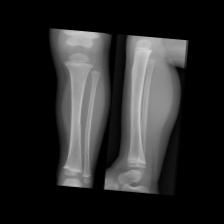impacted-fracture: (35, 27, 188, 196)
